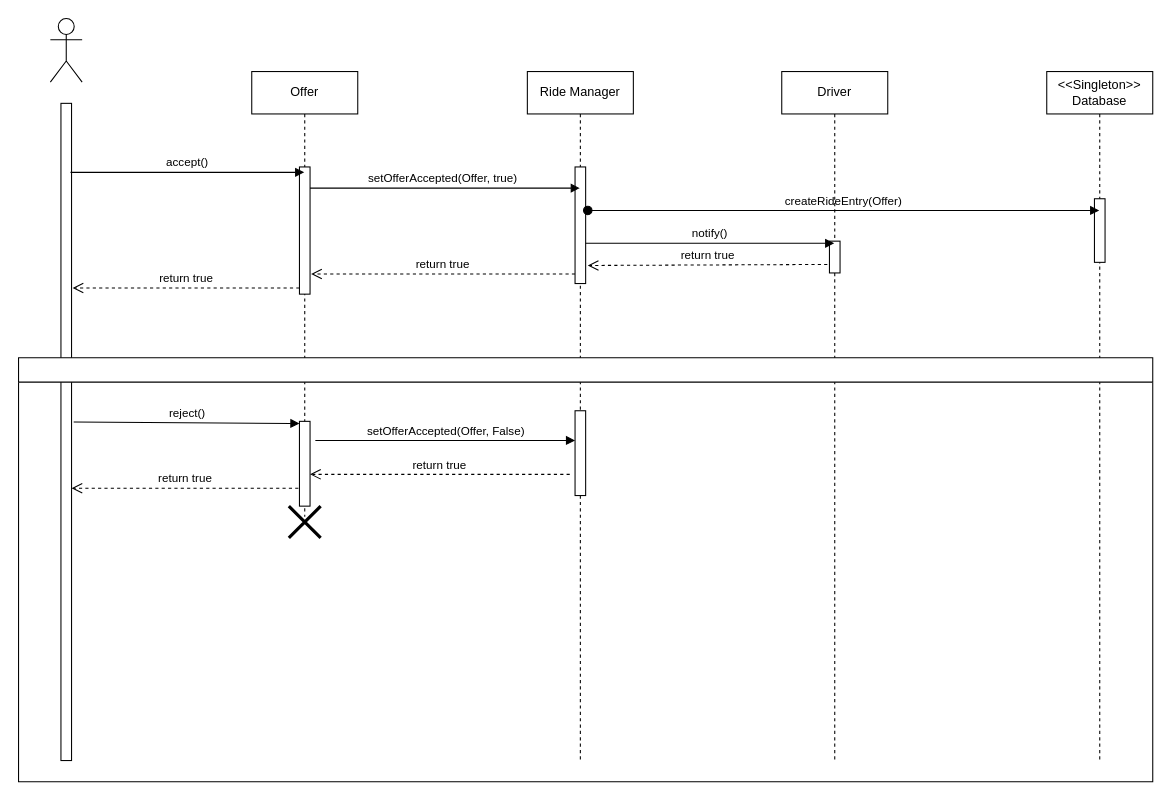
Image size: 1171x800. Some labels were removed from this diagram. Here are the shapes that lost their labels. From the top down, the box of each, then its label:
(49, 17, 82, 82): Actor
(17, 357, 1153, 782): Alterntive
